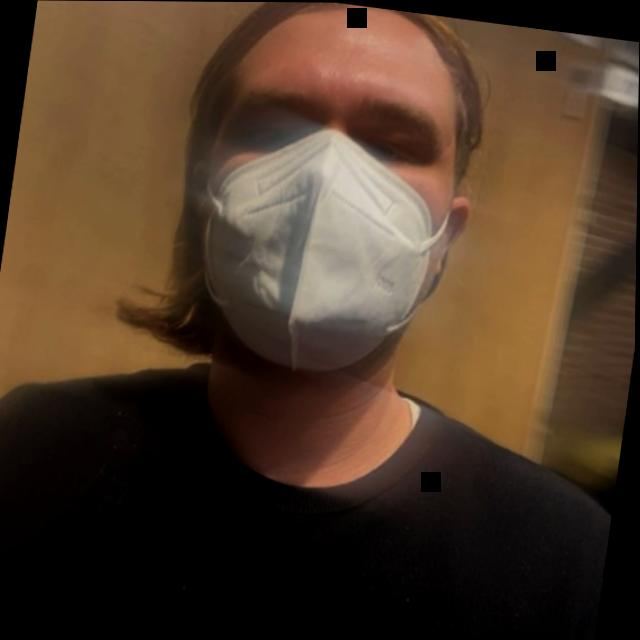Mask: (109, 1, 538, 424)
